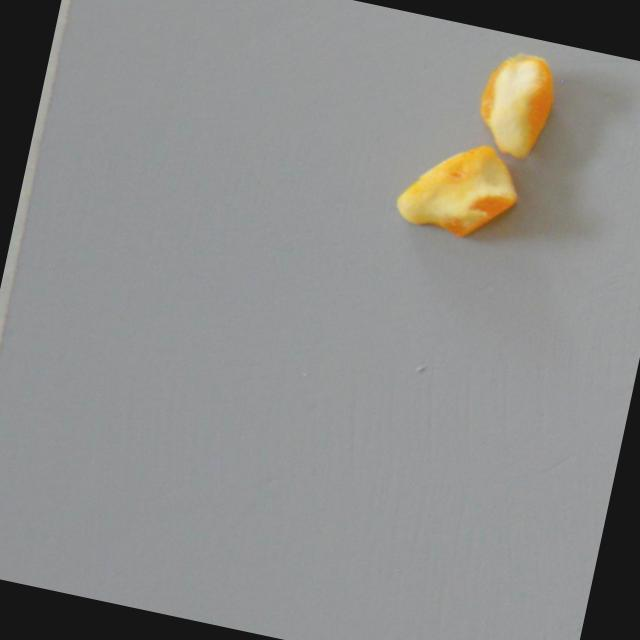dañado: (389, 127, 533, 256)
pelicula: (469, 43, 565, 165)
